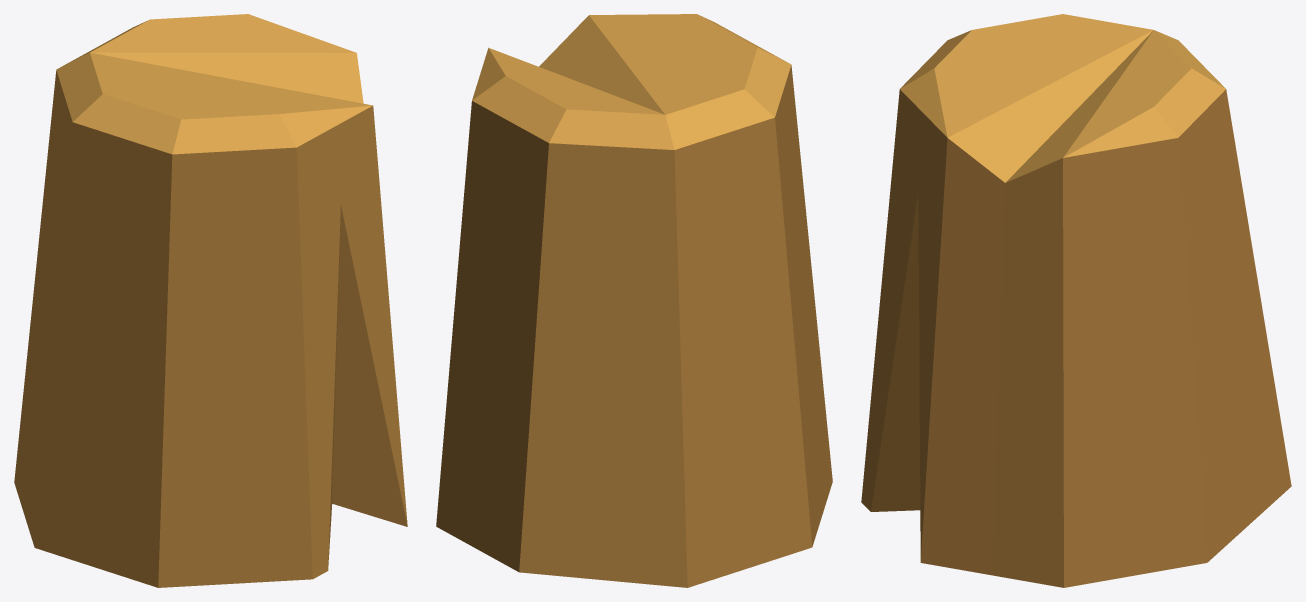
File: intro-stump-b.glb
3 renders of one model, left to right at view 1: azimuth 30°, elevation 25°; view 2: azimuth 150°, elevation 25°; view 3: azimuth 270°, elevation 25°, orthographic.
Parts seen in each view (by area): view 1: stump2; view 2: stump2; view 3: stump2.
Boxes of the visible parts, x1,y1,x2,y2 form: stump2: [14, 14, 407, 587]; stump2: [436, 14, 832, 587]; stump2: [861, 14, 1291, 587].
Size of the model in its own units: 0.3649 by 0.4326 by 0.3874.
